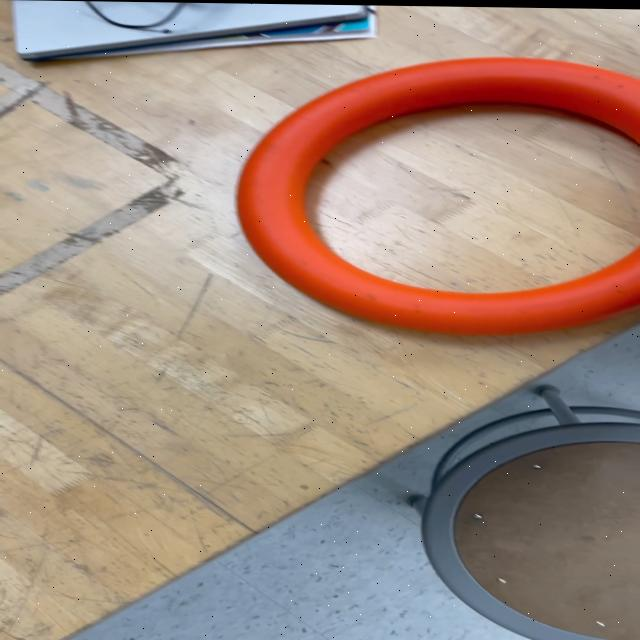note: (231, 51, 640, 338)
